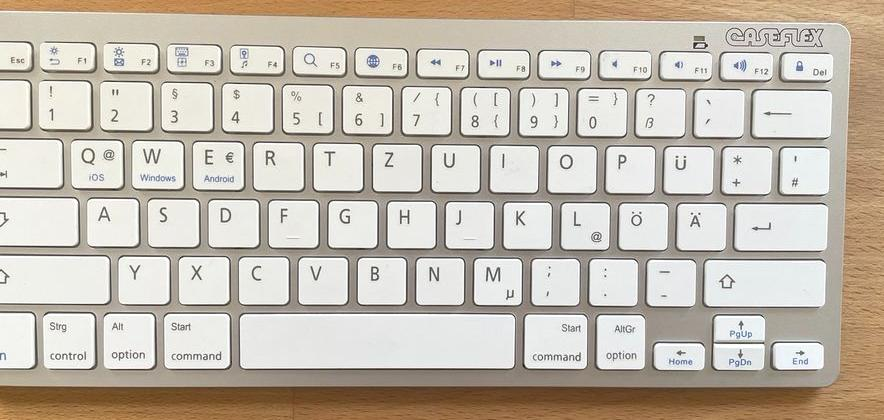0: (575, 85, 628, 137)
1: (36, 78, 91, 130)
2: (97, 78, 153, 130)
3: (157, 79, 214, 131)
4: (219, 79, 274, 132)
5: (279, 81, 333, 134)
6: (339, 82, 393, 134)
7: (400, 84, 452, 134)
8: (457, 85, 511, 136)
9: (515, 85, 569, 137)
a: (83, 194, 139, 246)
accent: (691, 85, 744, 137)
ae: (673, 199, 726, 250)
alt-left: (99, 308, 157, 370)
altgr-right: (593, 309, 648, 370)
b: (353, 253, 407, 304)
c: (235, 253, 289, 304)
caret: (1, 75, 30, 128)
comma: (527, 255, 580, 305)
d: (204, 196, 259, 247)
del: (750, 85, 832, 138)
e: (189, 137, 245, 191)
enter: (732, 200, 829, 250)
f: (265, 196, 318, 247)
g: (323, 197, 378, 247)
h: (383, 197, 436, 248)
hash: (778, 143, 831, 195)
i: (486, 141, 539, 193)
j: (443, 197, 493, 248)
k: (500, 198, 551, 249)
keyboard: (1, 4, 859, 400)
l: (558, 200, 610, 250)
m: (469, 254, 523, 305)
minus: (642, 256, 697, 306)
n: (412, 254, 465, 304)
o: (543, 142, 597, 193)
oe: (615, 199, 668, 250)
p: (602, 142, 655, 193)
plus: (718, 142, 772, 194)
point: (585, 255, 639, 305)
q: (66, 135, 125, 189)
r: (250, 139, 304, 190)
s: (144, 195, 199, 246)
shift-left: (1, 251, 111, 304)
shift-lock: (1, 193, 77, 245)
shift-right: (702, 255, 827, 307)
space: (238, 309, 515, 370)
ss: (633, 85, 686, 137)
strg-left: (39, 308, 97, 369)
t: (310, 139, 363, 191)
tab: (1, 134, 62, 187)
u: (427, 140, 480, 193)
ue: (660, 142, 713, 194)
v: (294, 253, 348, 304)
w: (128, 135, 184, 189)
x: (175, 252, 229, 304)
y: (114, 252, 171, 304)
z: (368, 140, 422, 192)
